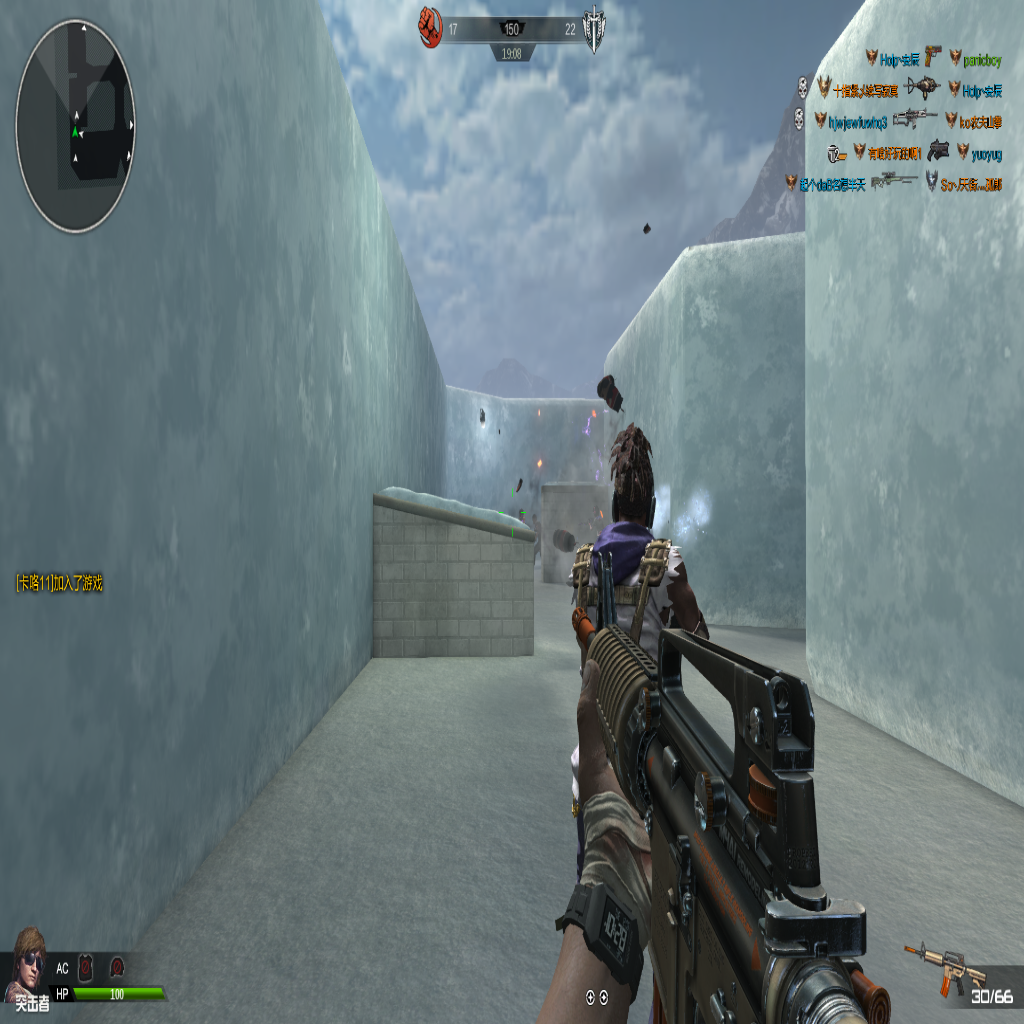tt: (567, 430, 718, 681)
